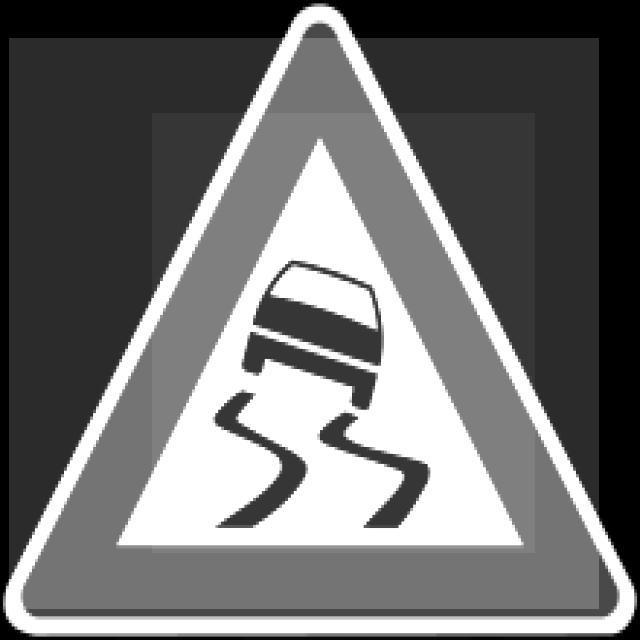slippery road: (21, 28, 618, 619)
